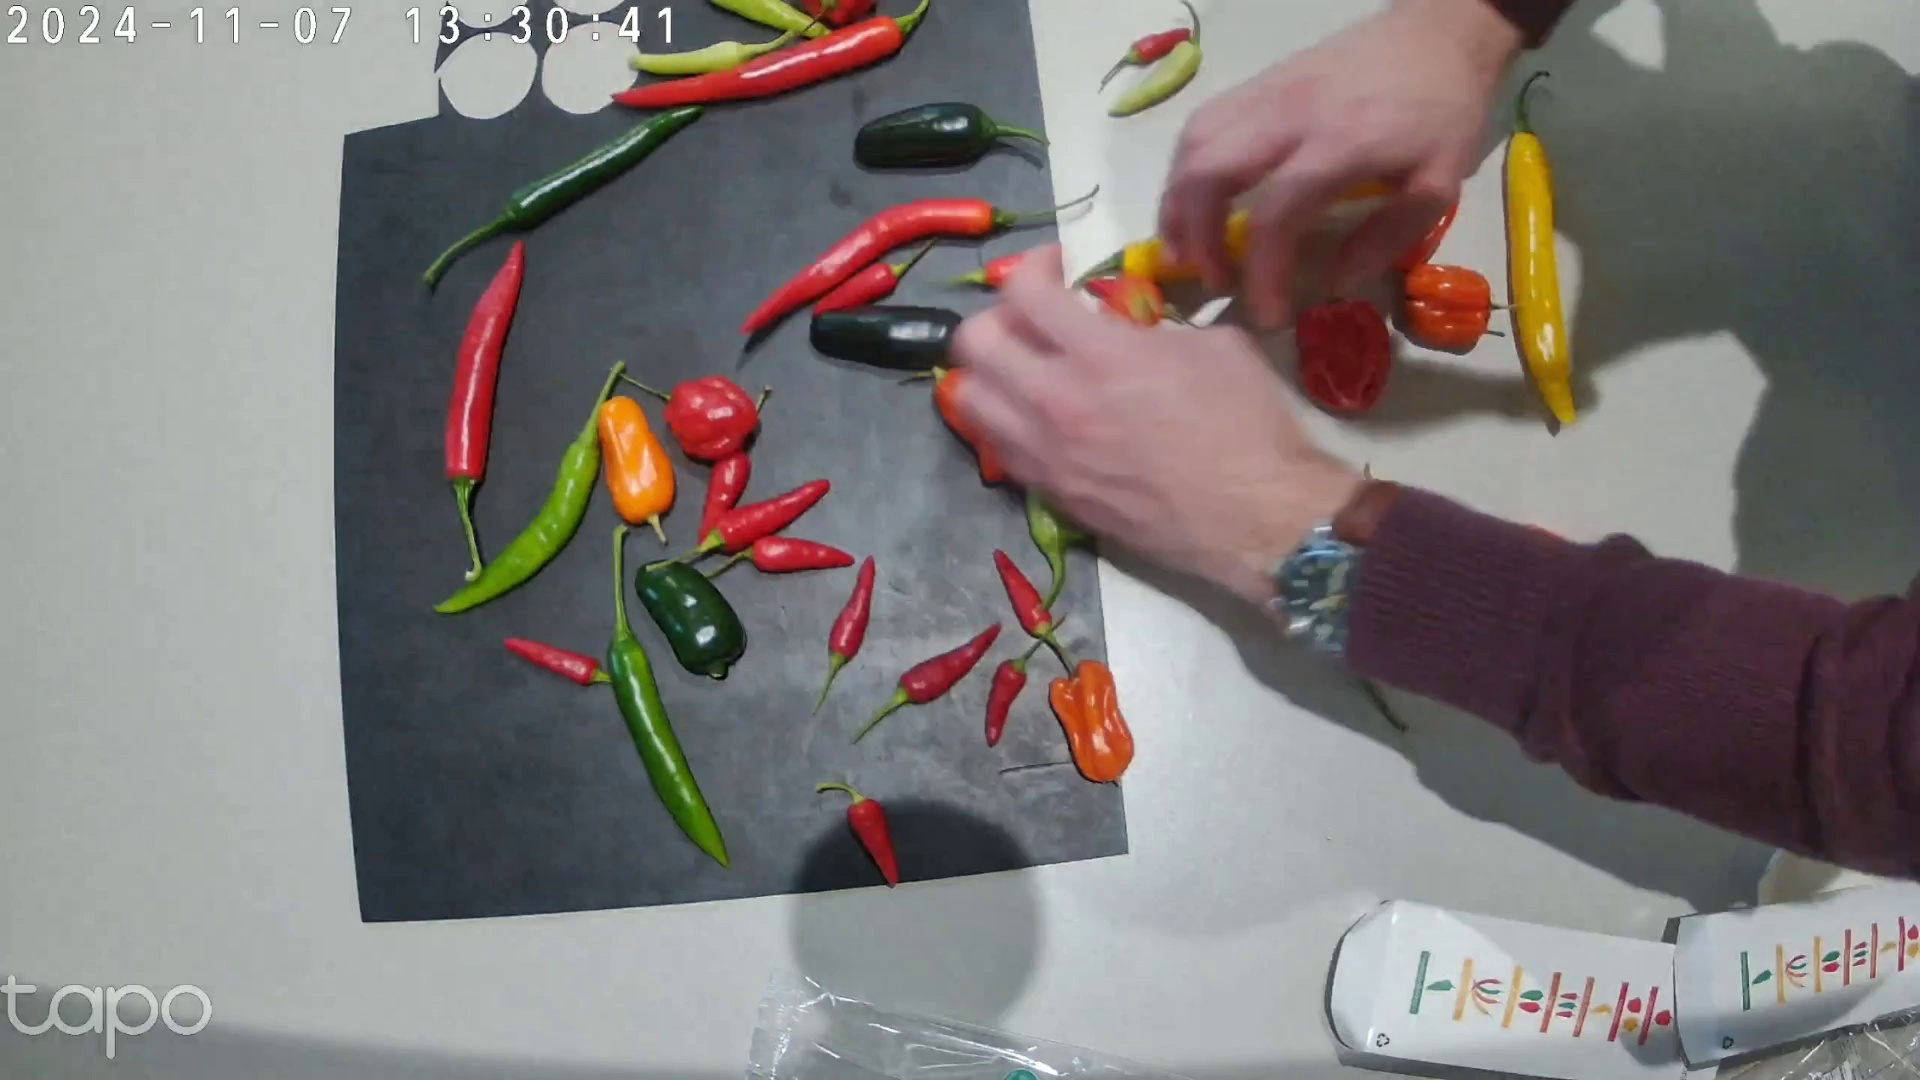Habanero_Pepper_Red: (607, 368, 759, 459), (1293, 297, 1392, 413)
Jalapeno_Green: (854, 102, 1049, 167), (809, 305, 964, 370)
Leon_Orange: (597, 395, 674, 546), (1050, 661, 1133, 782), (1405, 263, 1521, 349)
Rawit_Green: (628, 28, 801, 74)
Rawit_Red: (853, 622, 1002, 743), (646, 478, 829, 572), (985, 615, 1067, 745), (993, 548, 1076, 674), (813, 555, 875, 715), (813, 237, 939, 314), (815, 782, 898, 887), (704, 536, 855, 579), (504, 638, 611, 685), (700, 453, 751, 547)
Spanish_Pepper_Green: (423, 106, 704, 287), (434, 361, 625, 615), (606, 523, 729, 869)
Spanish_Pepper_Red: (741, 183, 1100, 335), (609, 0, 930, 106), (443, 240, 525, 581)
Spanish_Pepper_Yellow: (1505, 71, 1576, 427)
